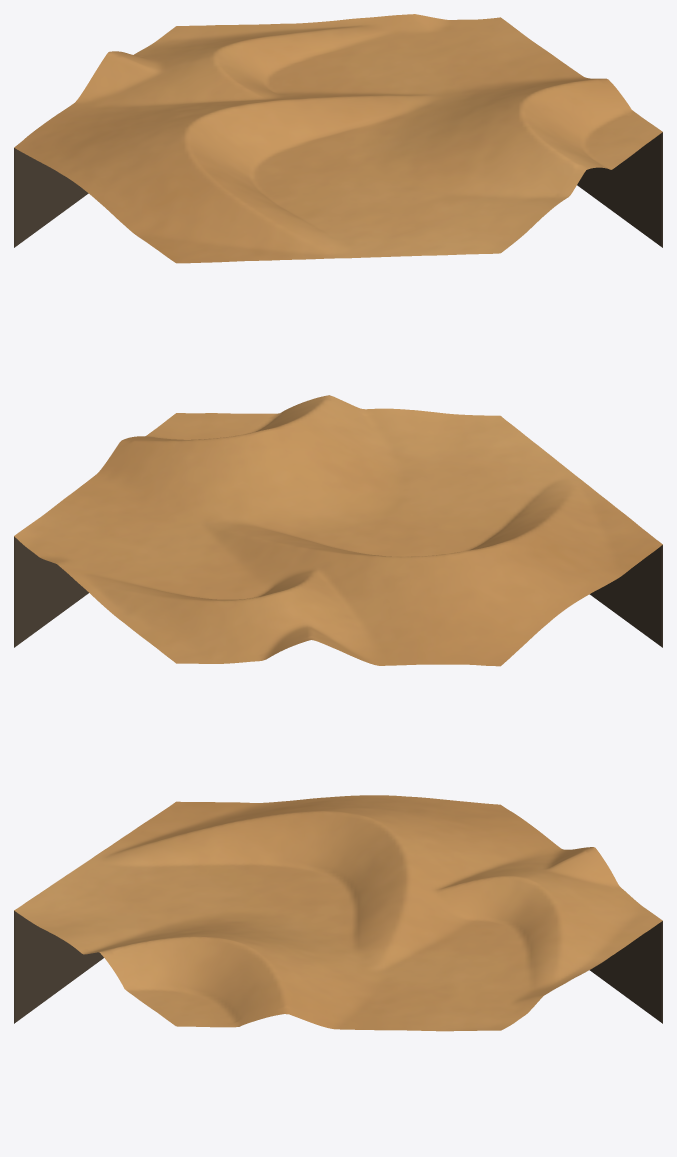
The picture shows the model from 3 angles, top to bottom: view 1: azimuth 30°, elevation 25°; view 2: azimuth 150°, elevation 25°; view 3: azimuth 270°, elevation 25°; orthographic projection.
Parts seen in each view (by area): view 1: terrain, hex_side_cut; view 2: terrain, hex_side_cut; view 3: terrain, hex_side_cut.
Part boxes in pixels (x1,y1,x2,y2): terrain: (14,14,662,263); hex_side_cut: (14,132,662,247); terrain: (14,395,662,666); hex_side_cut: (14,536,662,647); terrain: (14,795,662,1031); hex_side_cut: (14,910,662,1023).
Size of the model in its own units: 4330 by 1246 by 5000.
